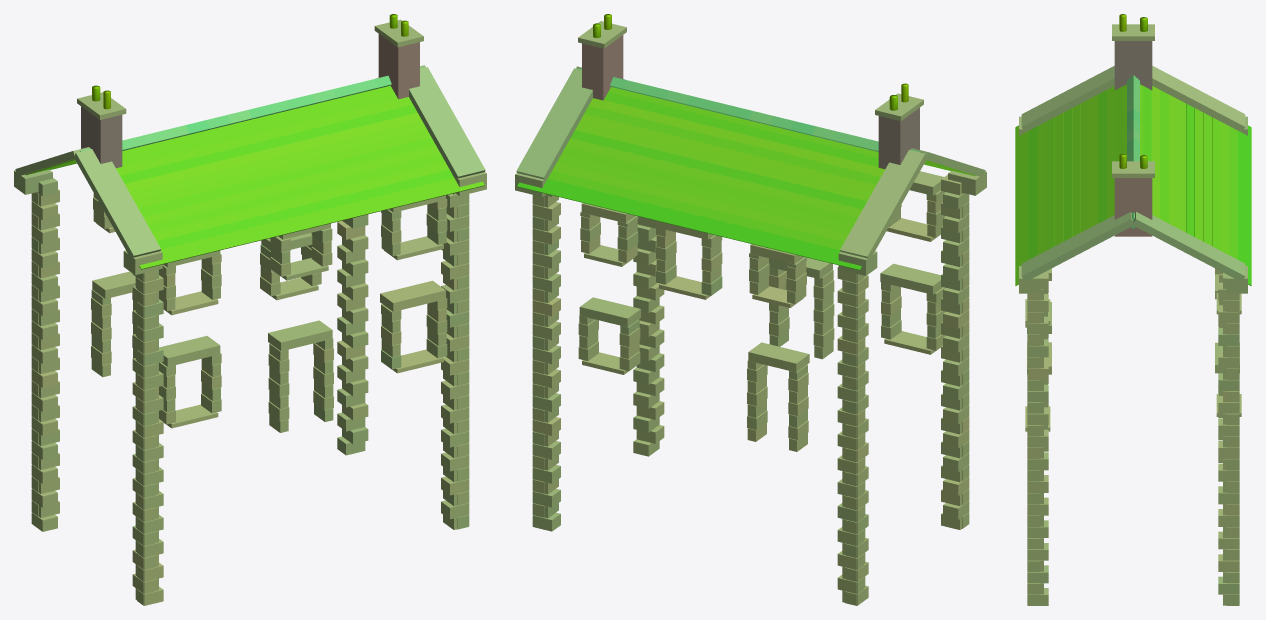
Rendered from SM_Bld_055_Stone.glb.
The picture shows the model from 3 angles, left to right: view 1: azimuth 30°, elevation 25°; view 2: azimuth 150°, elevation 25°; view 3: azimuth 270°, elevation 25°; orthographic projection. The views are drawn at different scales.
Visible parts, largest first — view 1: SM_Bld_055_Stone; view 2: SM_Bld_055_Stone; view 3: SM_Bld_055_Stone.
Boxes of the visible parts, x1,y1,x2,y2 form: SM_Bld_055_Stone: [14, 14, 486, 605]; SM_Bld_055_Stone: [515, 14, 986, 605]; SM_Bld_055_Stone: [1015, 14, 1251, 605].
Bounding box in the file's own units: 9.22 × 11.86 × 5.69.
